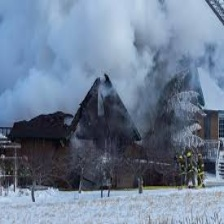smoke: (2, 1, 210, 136)
